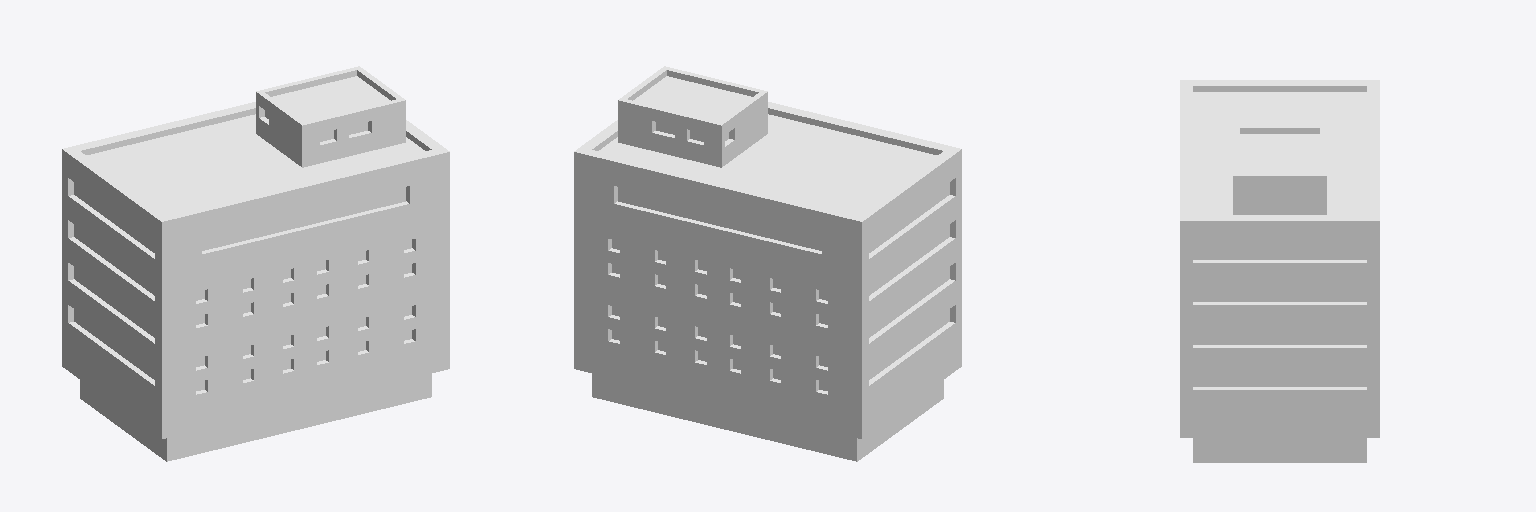
The model's file is Second.obj.
3 renders of one model, left to right at view 1: azimuth 30°, elevation 25°; view 2: azimuth 150°, elevation 25°; view 3: azimuth 270°, elevation 25°, orthographic.
Parts seen in each view (by area): view 1: Second; view 2: Second; view 3: Second.
Part boxes in pixels (bbox=[...]): Second: bbox=[62, 66, 449, 461]; Second: bbox=[574, 66, 961, 461]; Second: bbox=[1180, 80, 1379, 462].
Bounding box in the file's own units: 50 × 47 × 30.